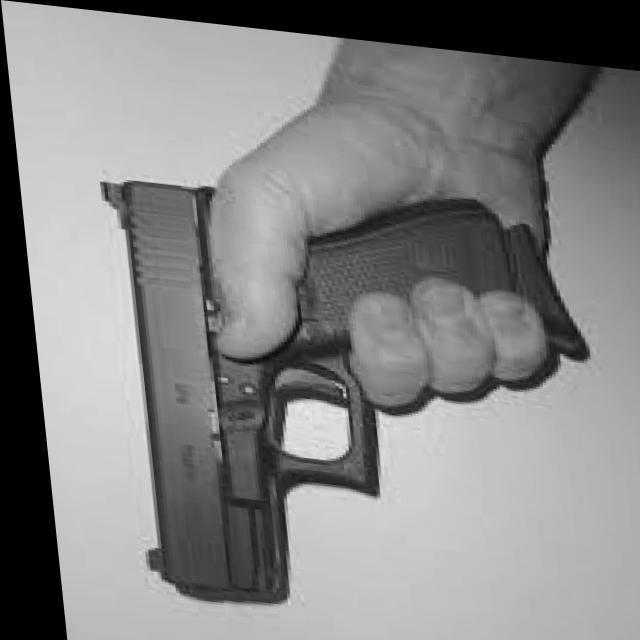handgun: (93, 153, 600, 638)
